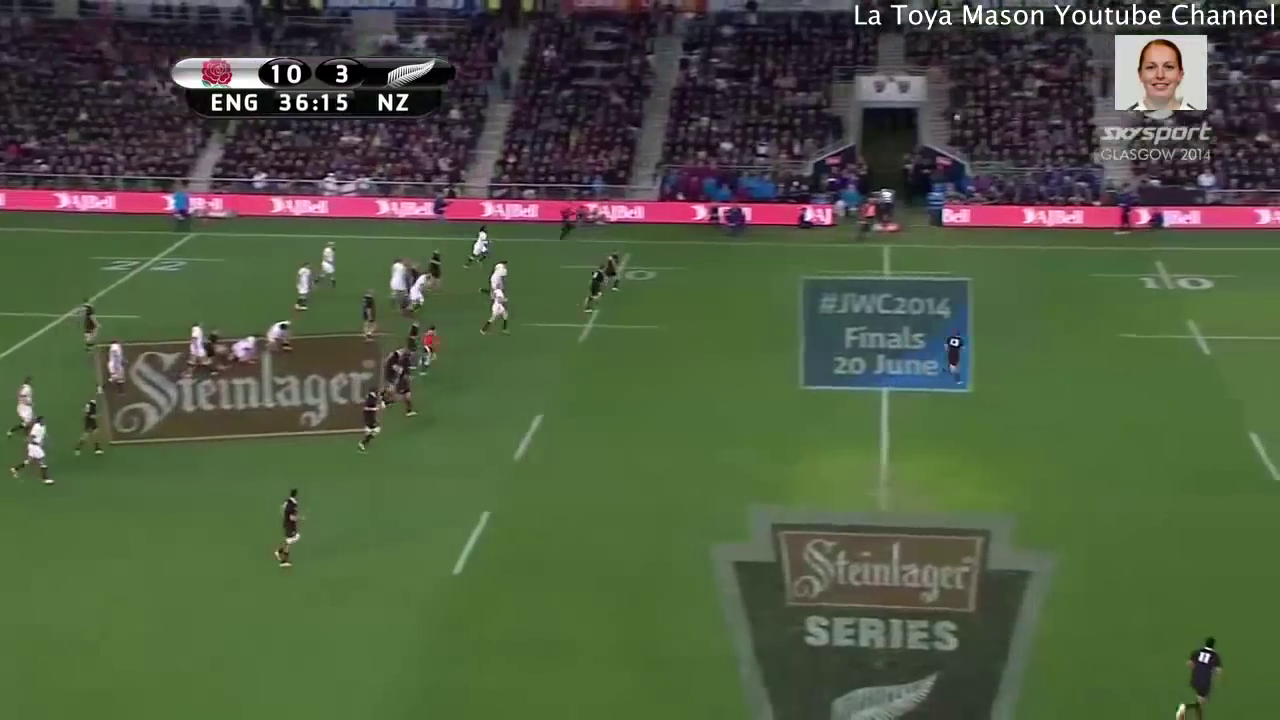10_metre: (1081, 254, 1247, 303), (1112, 316, 1280, 363), (522, 304, 675, 352), (553, 248, 693, 290)
player: (1162, 628, 1231, 720), (263, 480, 310, 578), (6, 412, 57, 490), (65, 392, 111, 463), (3, 370, 42, 446), (351, 383, 388, 459), (376, 358, 421, 420), (934, 326, 973, 392), (302, 235, 344, 294), (258, 311, 304, 363), (472, 283, 513, 341), (94, 335, 127, 403), (181, 317, 213, 384), (457, 219, 493, 275), (74, 292, 103, 360), (223, 330, 266, 374), (287, 254, 316, 318), (354, 286, 383, 349), (474, 254, 512, 299), (376, 344, 407, 397), (386, 253, 413, 313), (401, 269, 433, 314), (422, 246, 449, 295), (416, 324, 442, 371), (201, 322, 221, 372), (407, 318, 424, 359)
